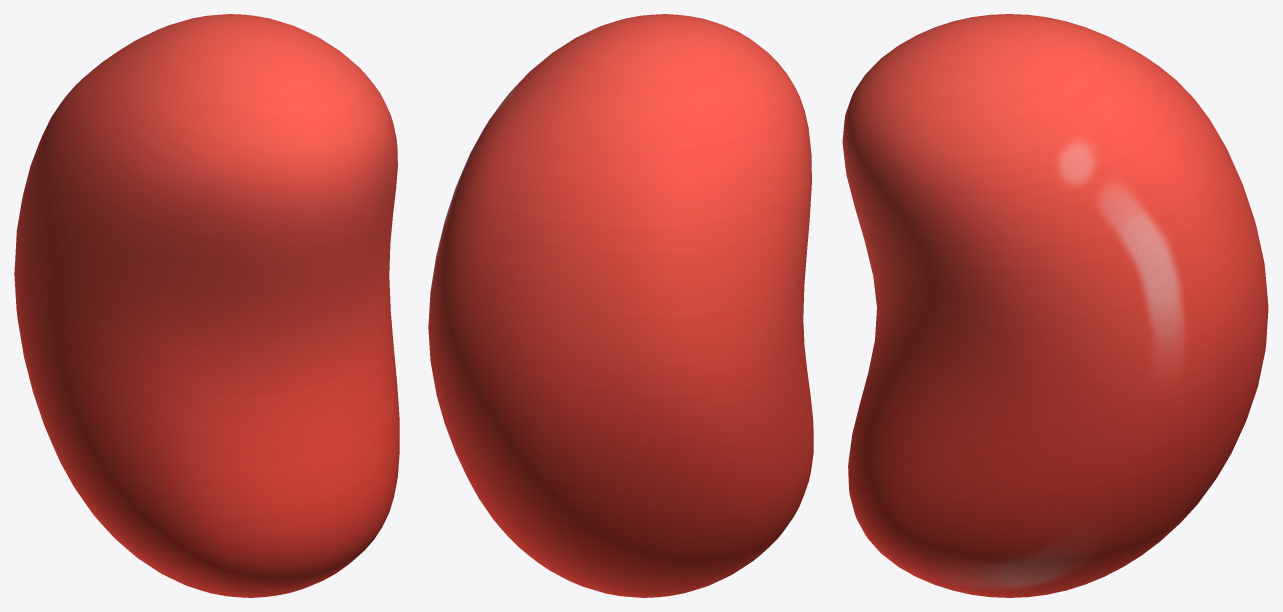
Rendered from JellyBean_Red.fbx.
3 renders of one model, left to right at view 1: azimuth 30°, elevation 25°; view 2: azimuth 150°, elevation 25°; view 3: azimuth 270°, elevation 25°, orthographic.
Visible parts, largest first — view 1: JellyBean; view 2: JellyBean; view 3: JellyBean.
Part boxes in pixels (<box>): JellyBean: <box>14,14,399,597</box>; JellyBean: <box>428,14,813,597</box>; JellyBean: <box>842,14,1268,597</box>.
Bounding box in the file's own units: 56.01 × 91.46 × 63.72.
1 material, 1 textured.
